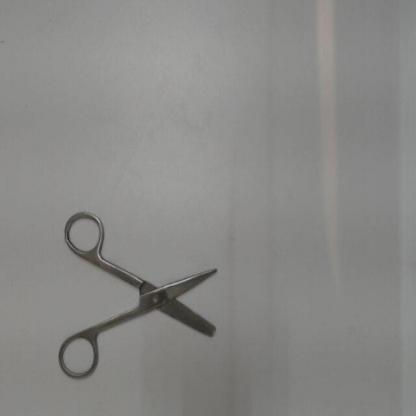Dressing Scissors: (53, 199, 230, 389)
